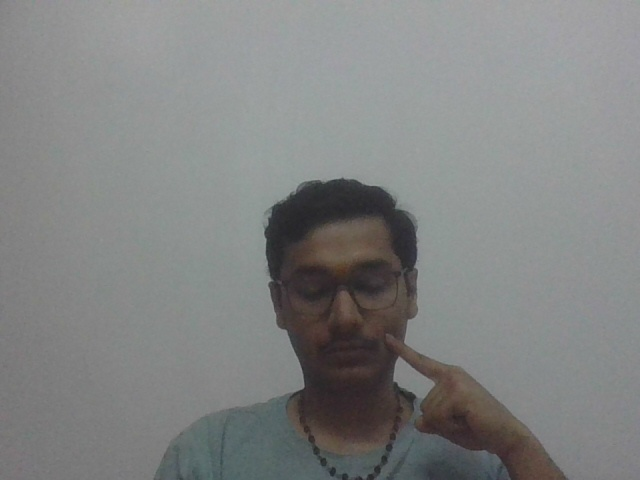I: (381, 330, 519, 450)
